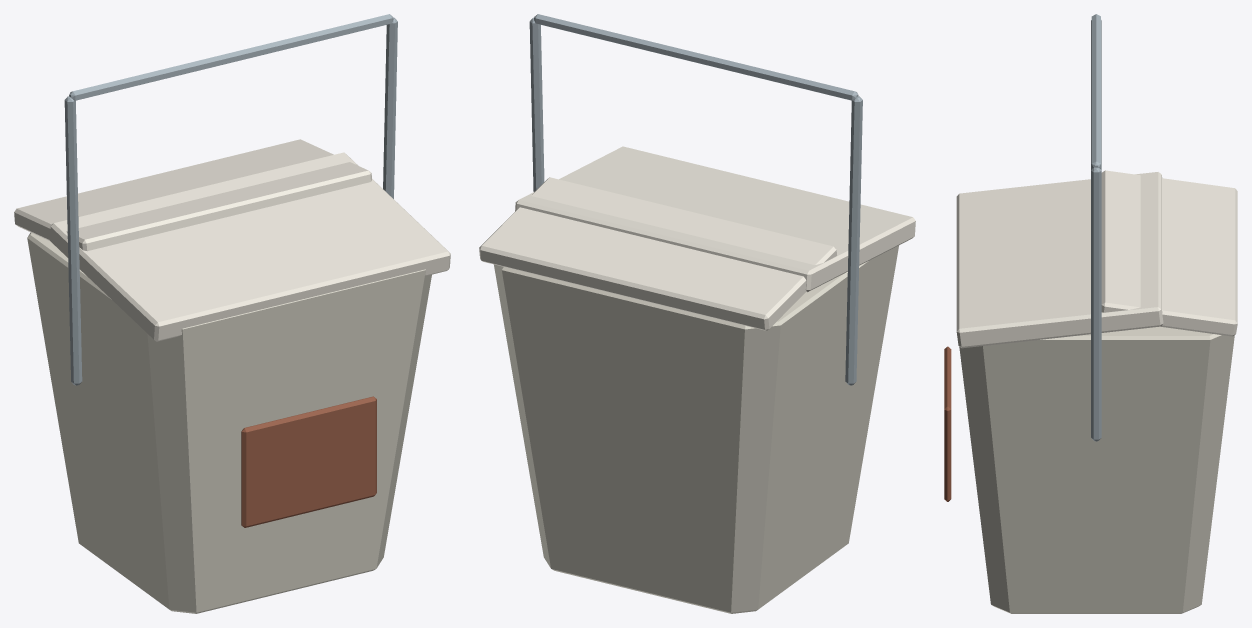
The model's file is b16_folded_takeout_carton.glb.
3 renders of one model, left to right at view 1: azimuth 30°, elevation 25°; view 2: azimuth 150°, elevation 25°; view 3: azimuth 270°, elevation 25°, orthographic. The views are drawn at different scales.
Parts seen in each view (by area): view 1: b16_folded_takeout_carton; view 2: b16_folded_takeout_carton; view 3: b16_folded_takeout_carton.
Boxes of the visible parts, left/top/right/bottom form: b16_folded_takeout_carton: left=14, top=14, right=450, bottom=613; b16_folded_takeout_carton: left=479, top=14, right=915, bottom=613; b16_folded_takeout_carton: left=944, top=14, right=1237, bottom=613.
Bounding box in the file's own units: 0.1005 × 0.1455 × 0.081.
